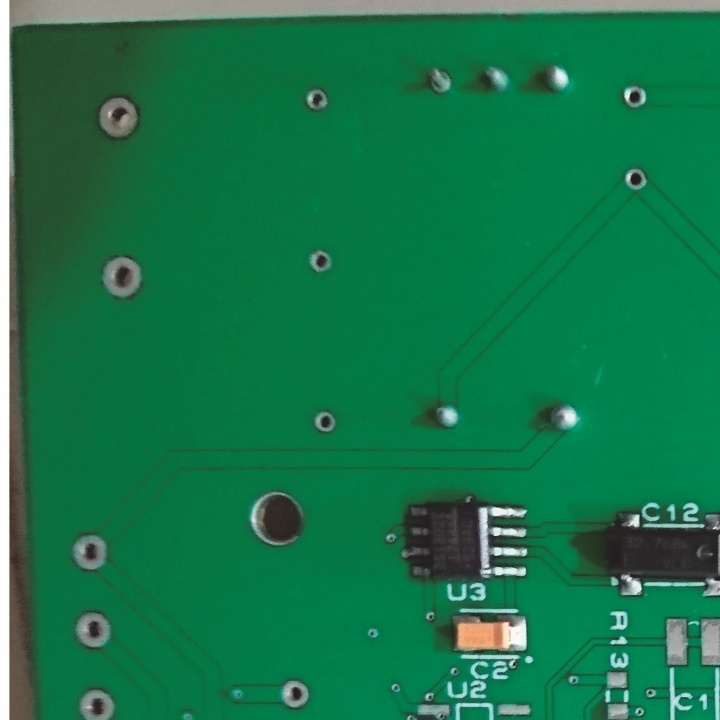F: (96, 253, 147, 302), (94, 94, 142, 142), (70, 530, 112, 578), (70, 608, 113, 652), (72, 682, 118, 720), (279, 676, 310, 714), (424, 68, 455, 98), (621, 166, 650, 196), (302, 85, 330, 114), (306, 245, 333, 275), (620, 85, 649, 111), (314, 407, 336, 437)
